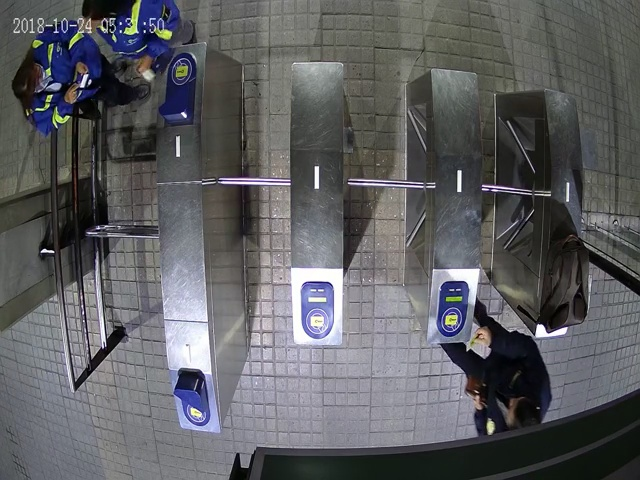Chaleco_azul: (12, 22, 149, 136), (80, 1, 199, 76)
